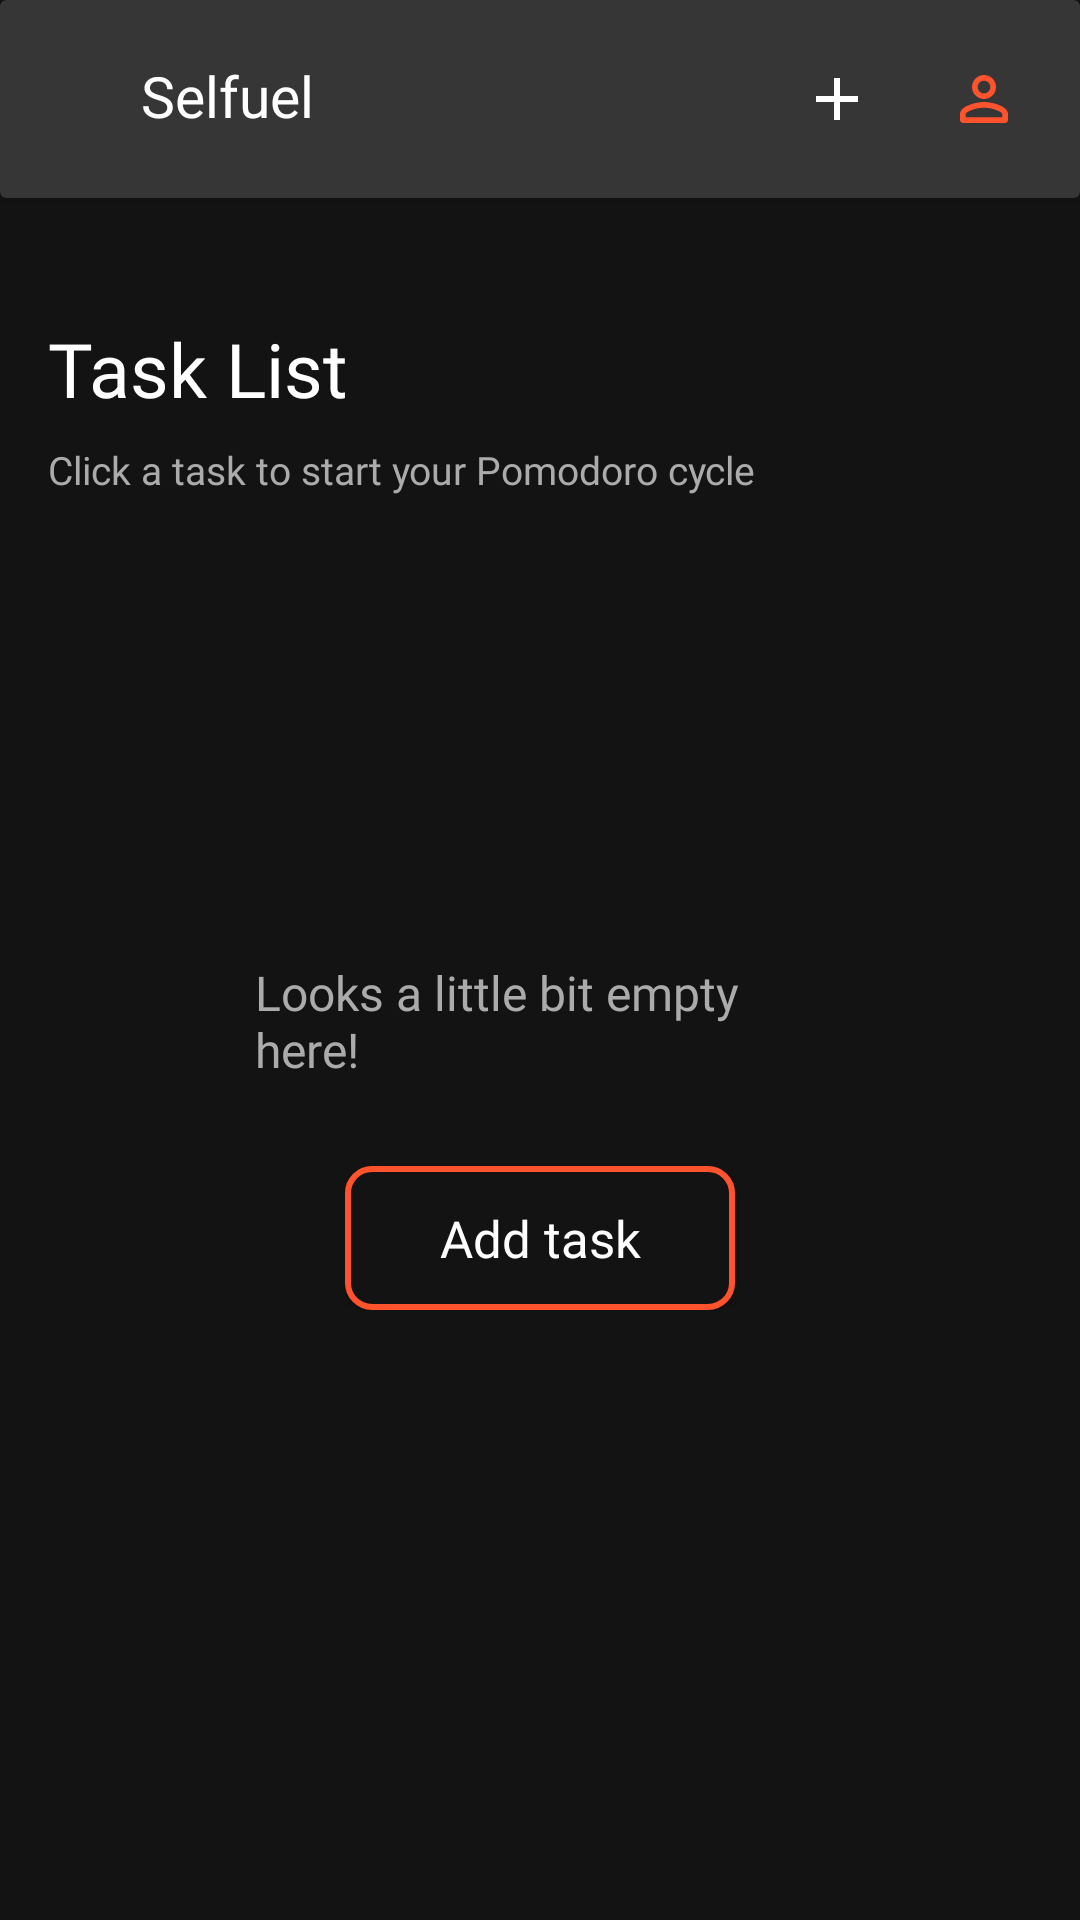

Icons on this 1080×1920 Android screen, each with its box as (x1, y1, x2, y2):
add: (816, 78, 858, 120)
person: (960, 75, 1008, 123)
